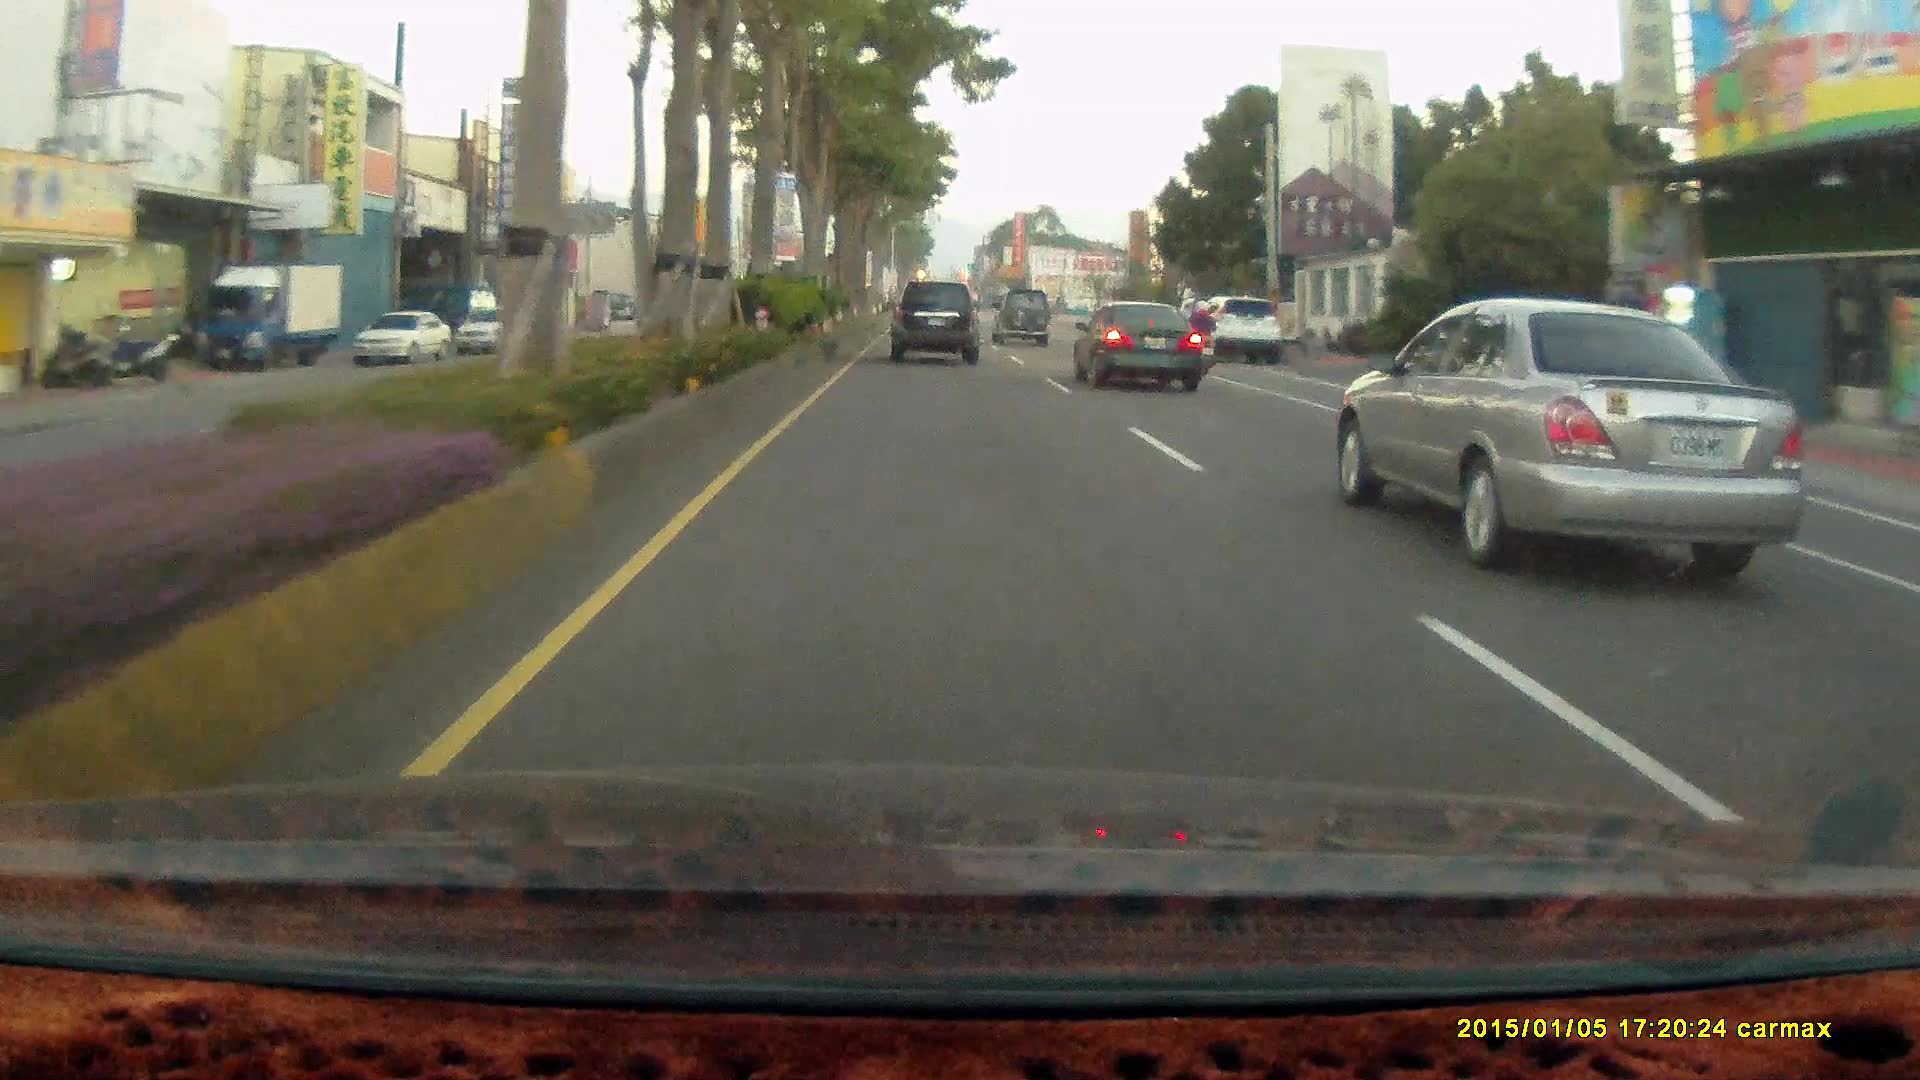rider: (1181, 297, 1221, 374)
vehicle: (1322, 299, 1801, 571), (190, 264, 345, 372), (192, 265, 348, 372), (1070, 302, 1209, 394), (1070, 297, 1205, 391), (886, 277, 984, 369), (887, 278, 977, 363), (1186, 297, 1283, 362), (354, 308, 450, 366), (357, 311, 450, 370), (1205, 297, 1284, 363), (990, 288, 1052, 349), (460, 309, 539, 356)
